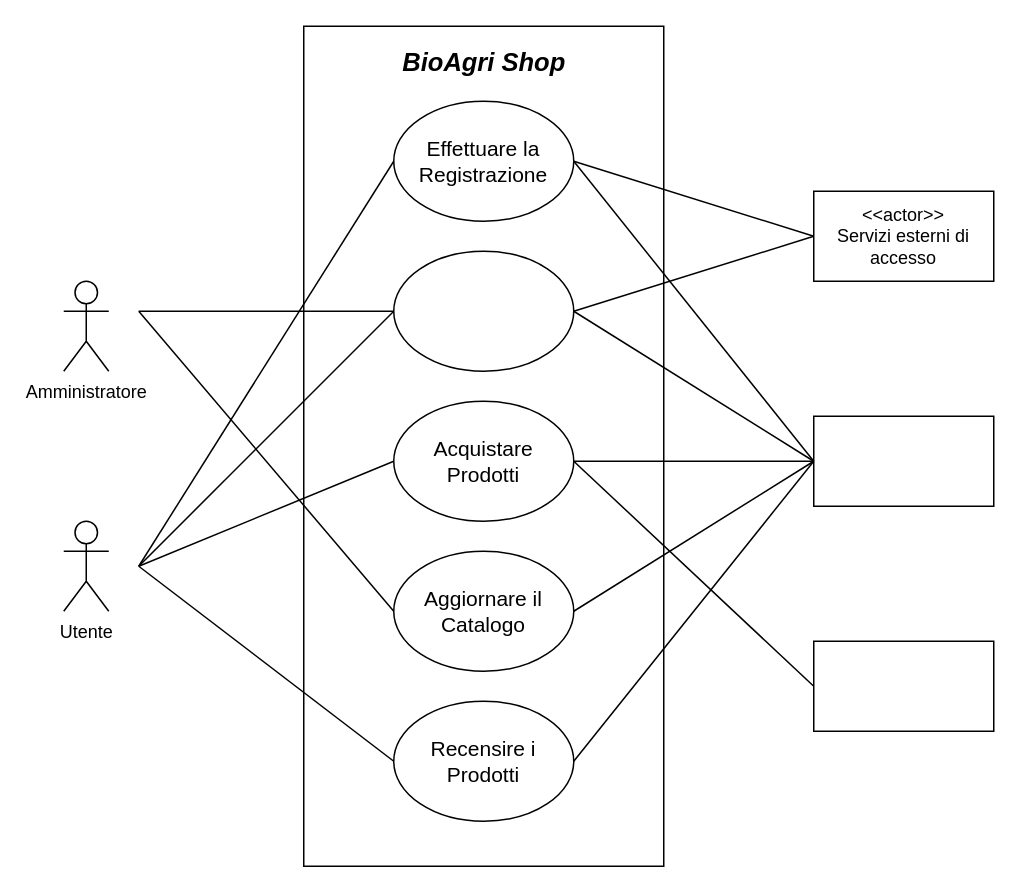
This 1020x893 diagram has some shape labels left out. The box of each missing label's shape, as (x1, y1, x2, y2) in pixels:
<<actor>> Servizi esterni di pagamento: (812, 640, 994, 731)
<<actor>> Sistema: (812, 415, 994, 506)
Effettuare il Log-in: (392, 250, 574, 371)
